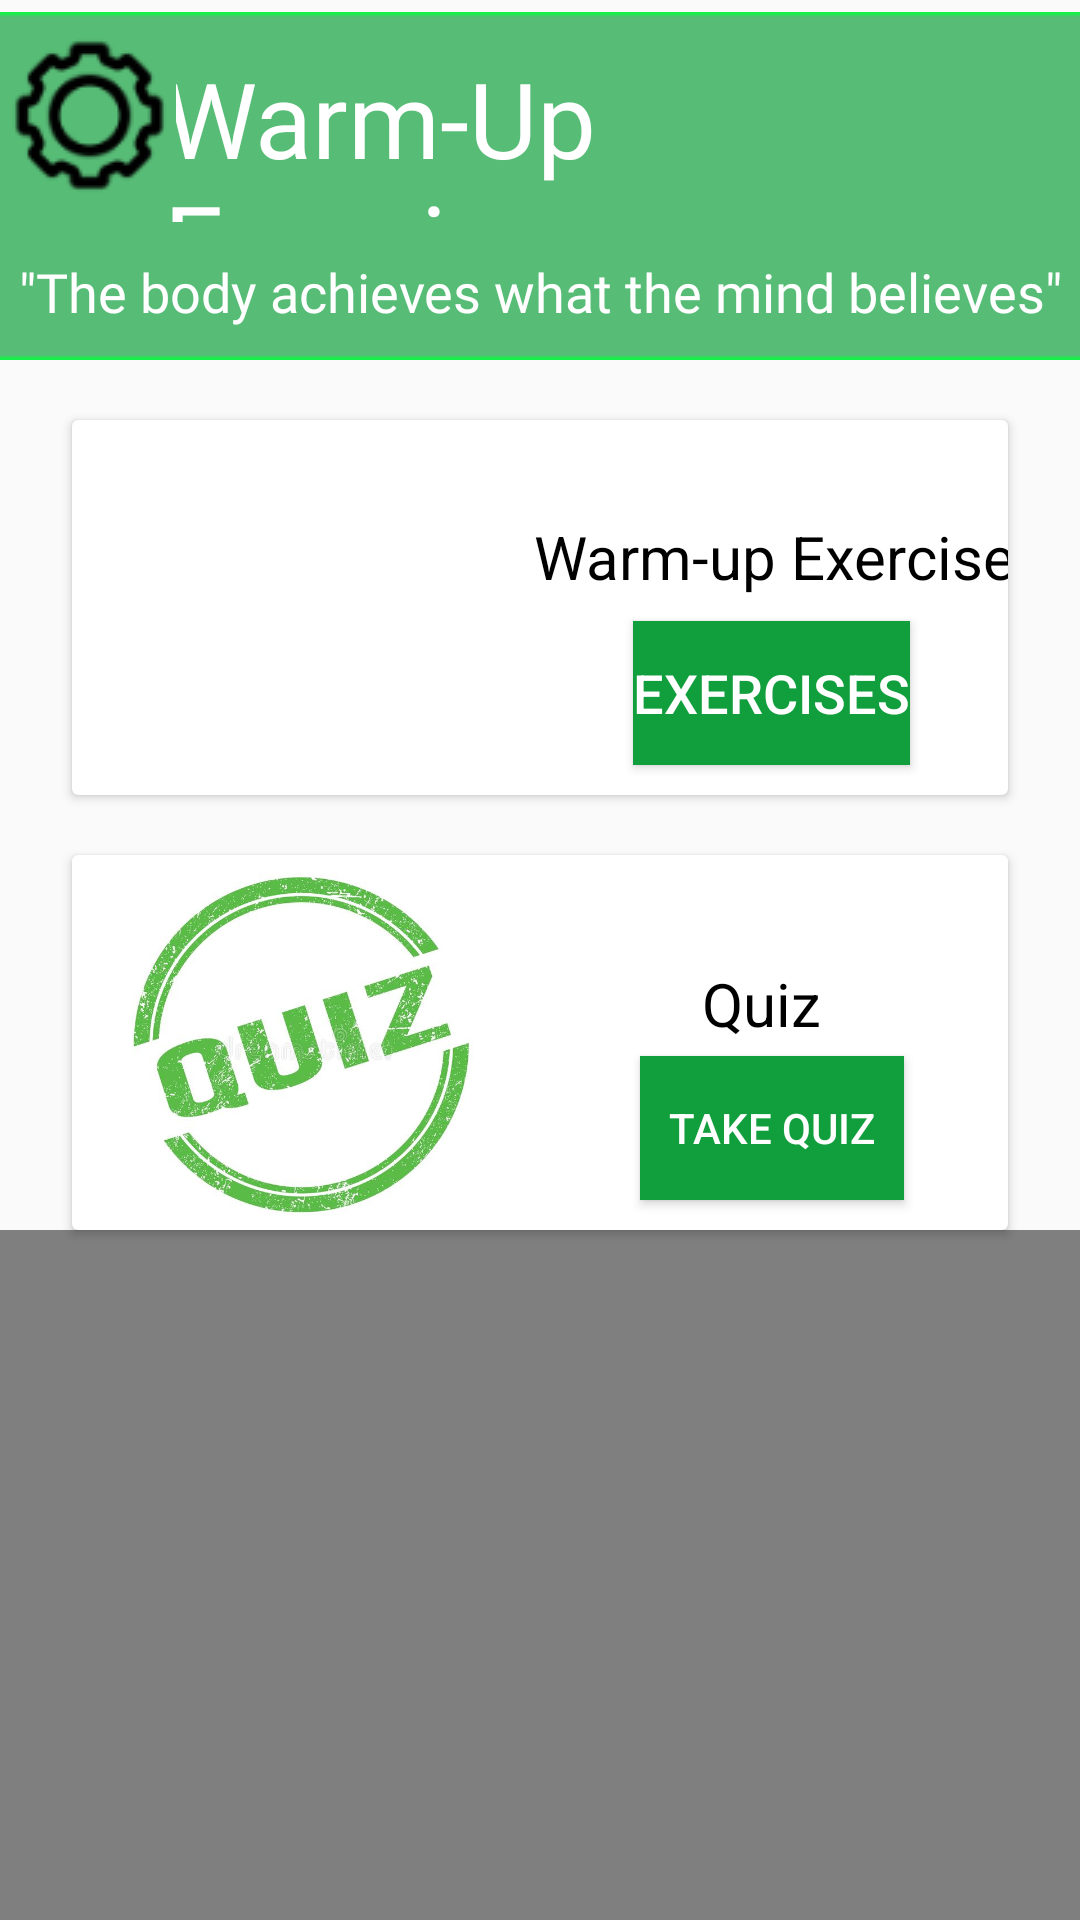

Icons on this 1080 x 1920 Android screen, each with the point to tap as (x=x, y=y):
settings: (x=89, y=115)
